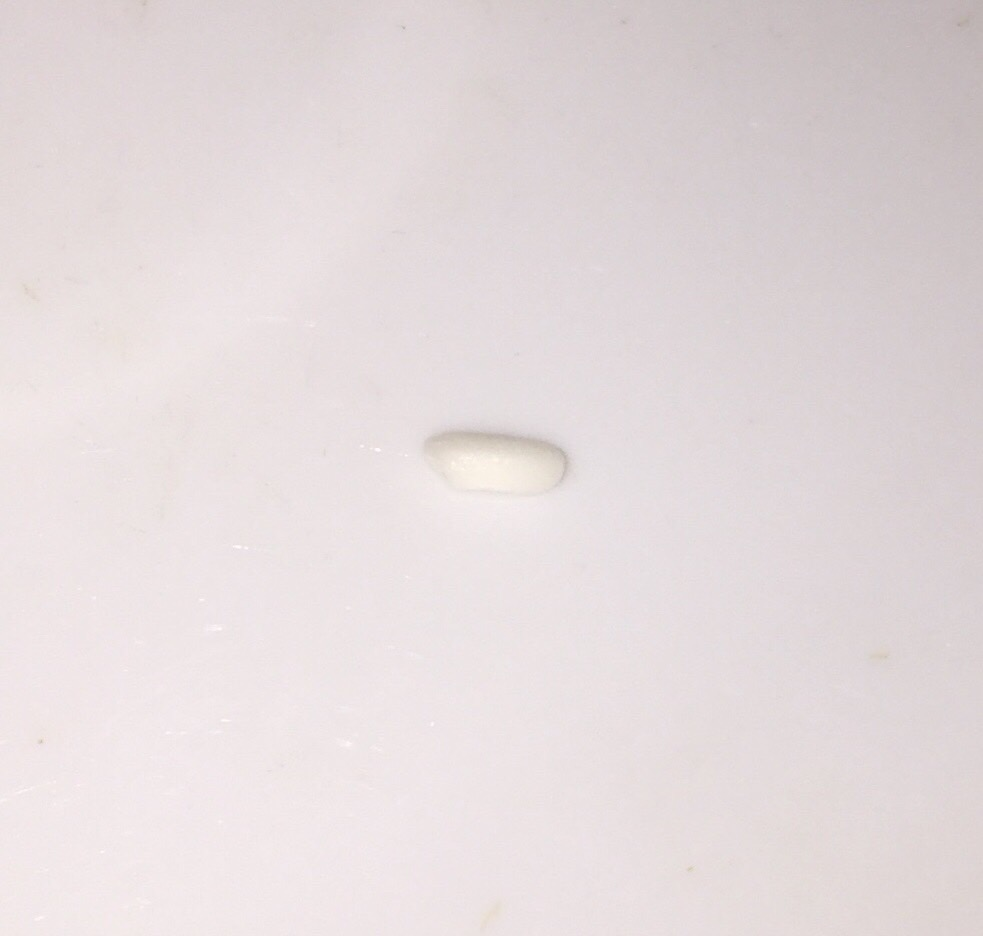Gao Nep Sap: (422, 398, 590, 528)
